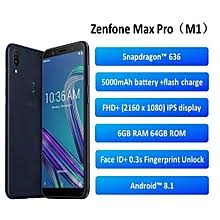asus: (38, 38, 89, 202), (3, 43, 41, 203)
